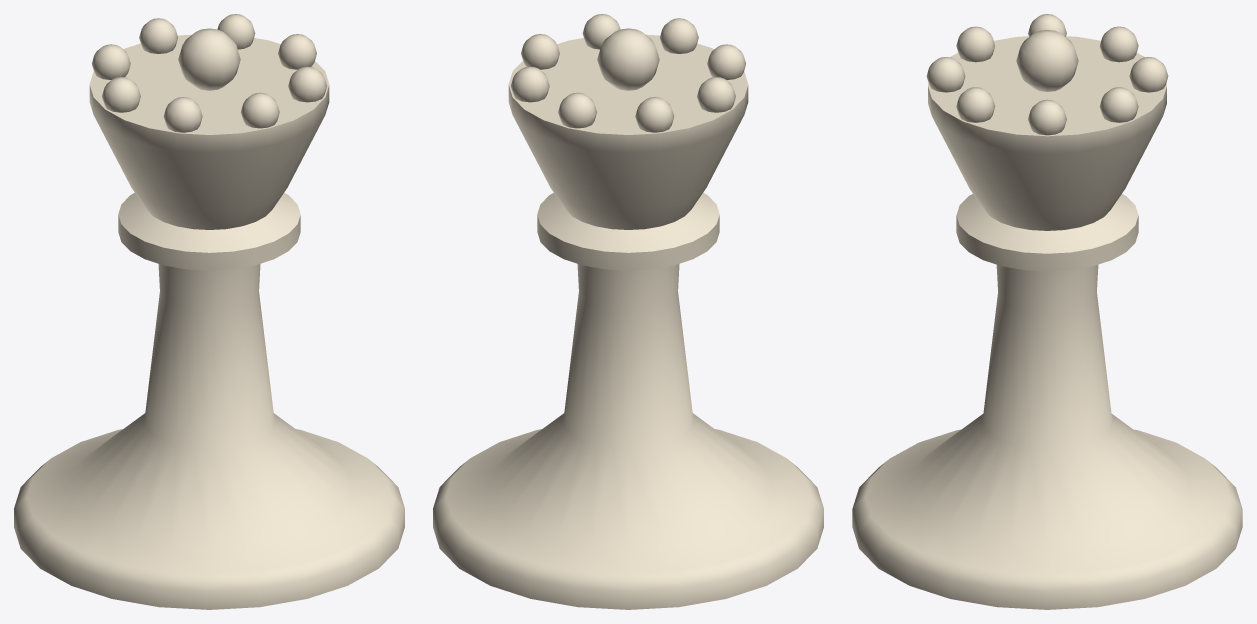
Rendered from white_queen.glb.
3 views of the same model, side by side, from view 1: azimuth 30°, elevation 25°; view 2: azimuth 150°, elevation 25°; view 3: azimuth 270°, elevation 25° (orthographic).
Parts seen in each view (by area): view 1: white_queen; view 2: white_queen; view 3: white_queen.
Part boxes in pixels (x1,y1,x2,y2): white_queen: (14,14,404,609); white_queen: (433,14,823,609); white_queen: (852,14,1242,609).
Bounding box in the file's own units: 0.03 × 0.042 × 0.03.
